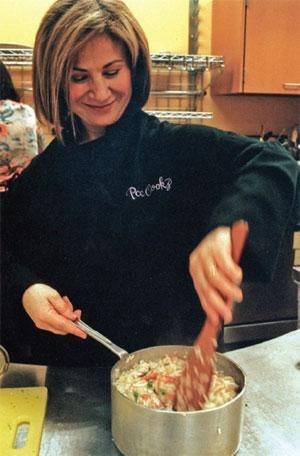person: (2, 4, 300, 376)
